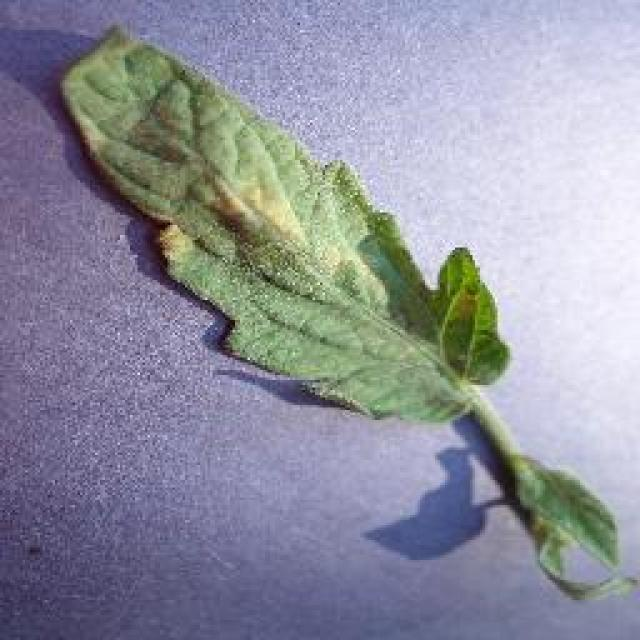Tomato___Leaf_Mold: (62, 28, 635, 595)
